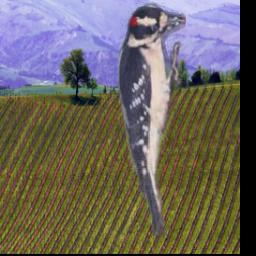Woodpecker: (114, 0, 186, 236)
